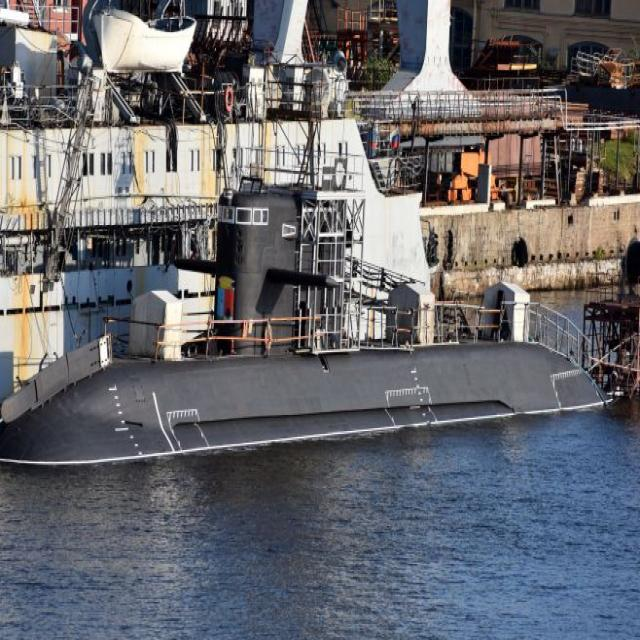submarine: (1, 166, 599, 458)
